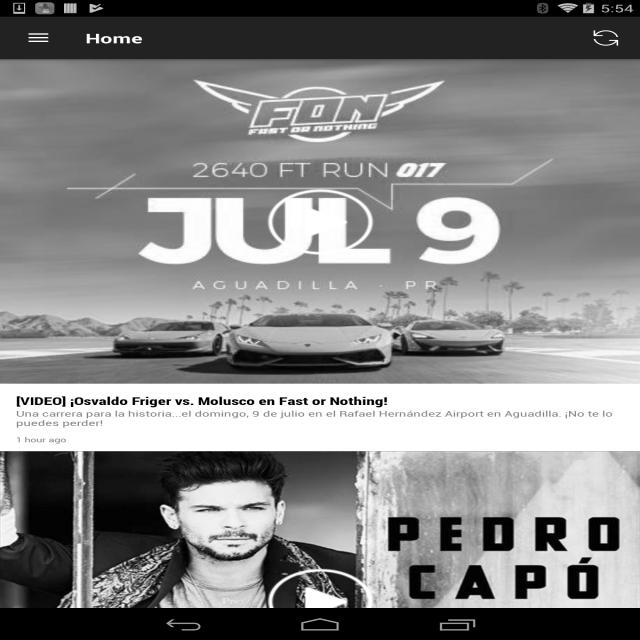ImageButton: (9, 17, 68, 59)
ImageView: (0, 59, 640, 383), (0, 451, 640, 640), (267, 188, 373, 255), (267, 568, 373, 635)
TextView: (16, 408, 624, 428), (16, 394, 388, 408), (580, 22, 632, 54), (86, 29, 142, 47), (16, 435, 66, 444)
